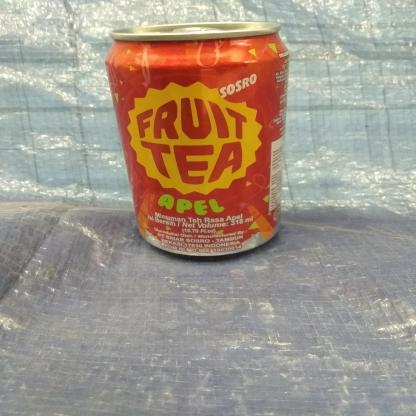can: (104, 17, 292, 263)
